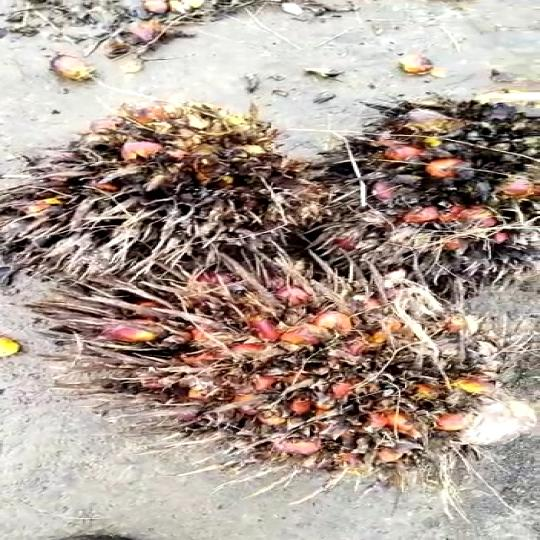terlalu masak: (40, 260, 539, 501), (0, 104, 318, 285), (293, 87, 540, 280)
